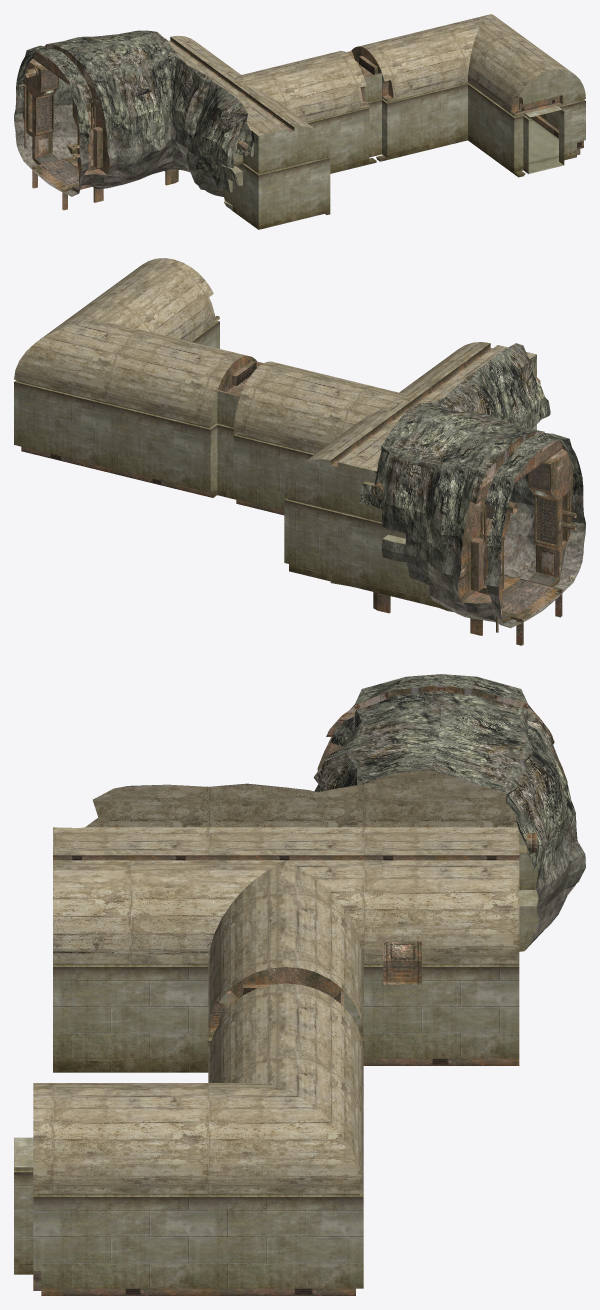
Rendered from poi_all_bunker_mad_bio_s01_r6_transition2_mesh_r6.fbx.
3 views of the same model, one above another, from view 1: azimuth 30°, elevation 25°; view 2: azimuth 150°, elevation 25°; view 3: azimuth 270°, elevation 25° (orthographic). The views are drawn at different scales.
Parts seen in each view (by area): view 1: mesh_node; view 2: mesh_node; view 3: mesh_node.
Boxes of the visible parts, <box> form: mesh_node: <box>14,14,585,229</box>; mesh_node: <box>14,258,585,645</box>; mesh_node: <box>14,674,585,1295</box>.
Bounding box in the file's own units: 24 × 7.64 × 14.72.
